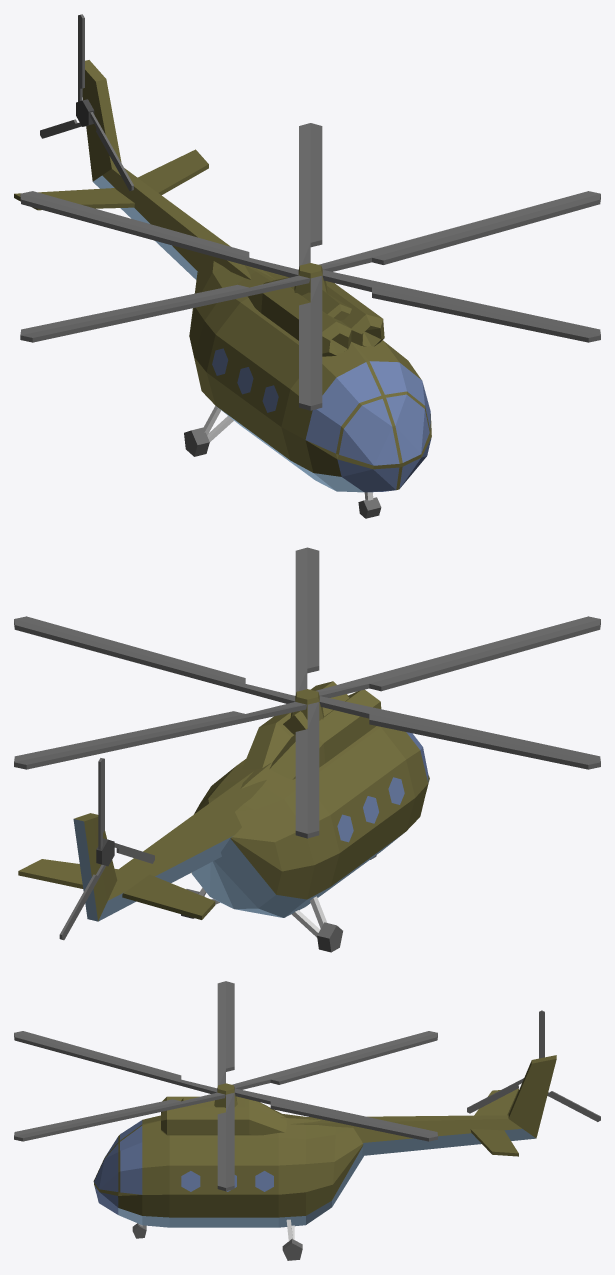
The model's file is transport_air_004.fbx.
The picture shows the model from 3 angles, top to bottom: view 1: azimuth 30°, elevation 25°; view 2: azimuth 150°, elevation 25°; view 3: azimuth 270°, elevation 25°; orthographic projection. The views are drawn at different scales.
Visible parts, largest first — view 1: transport_air_004; view 2: transport_air_004; view 3: transport_air_004.
Part boxes in pixels (x1,y1,x2,y2): transport_air_004: [14, 14, 600, 518]; transport_air_004: [14, 547, 600, 952]; transport_air_004: [14, 981, 600, 1260].
Size of the model in its own units: 1280 by 637 by 1534.
